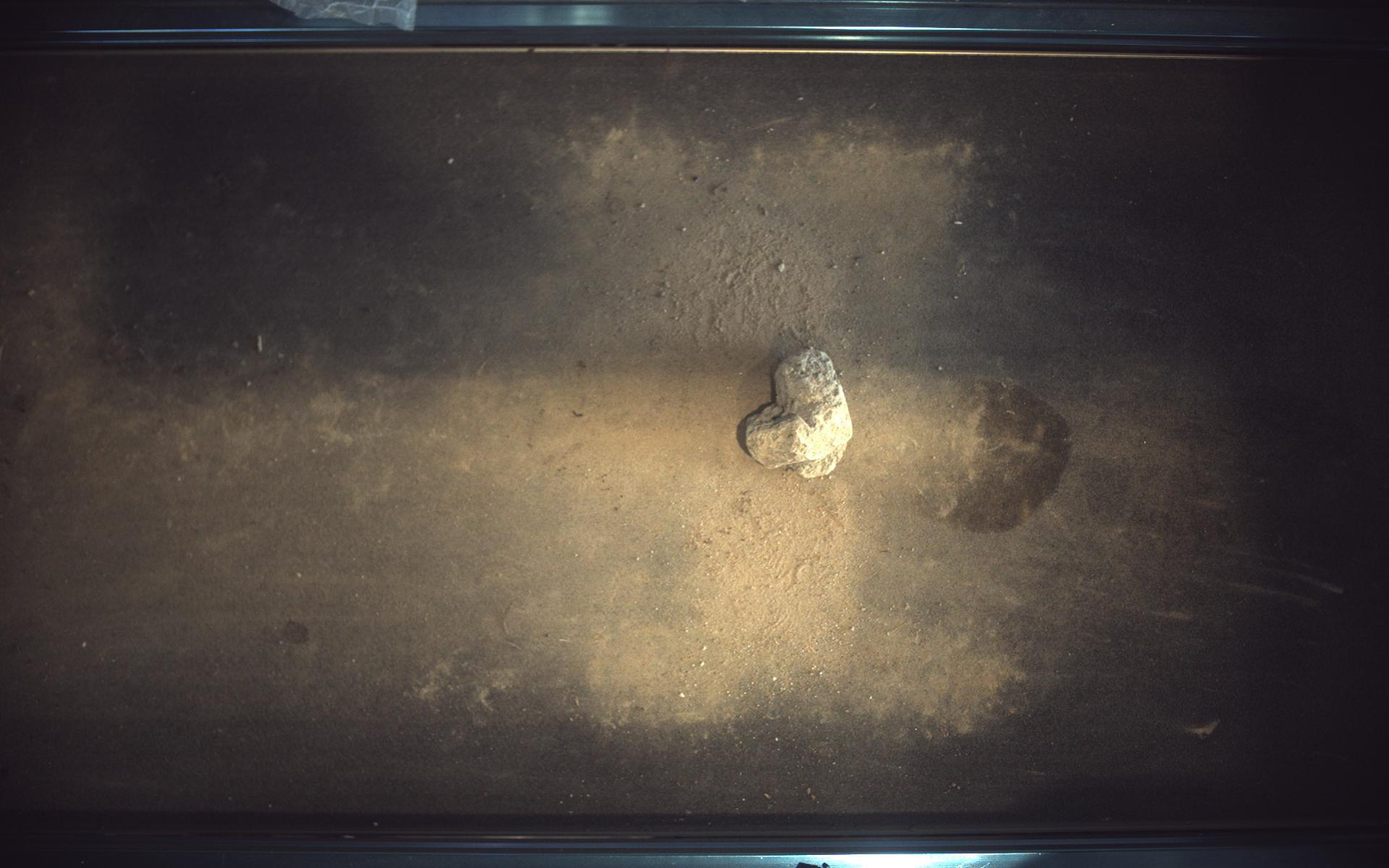stone: (746, 347, 854, 478)
